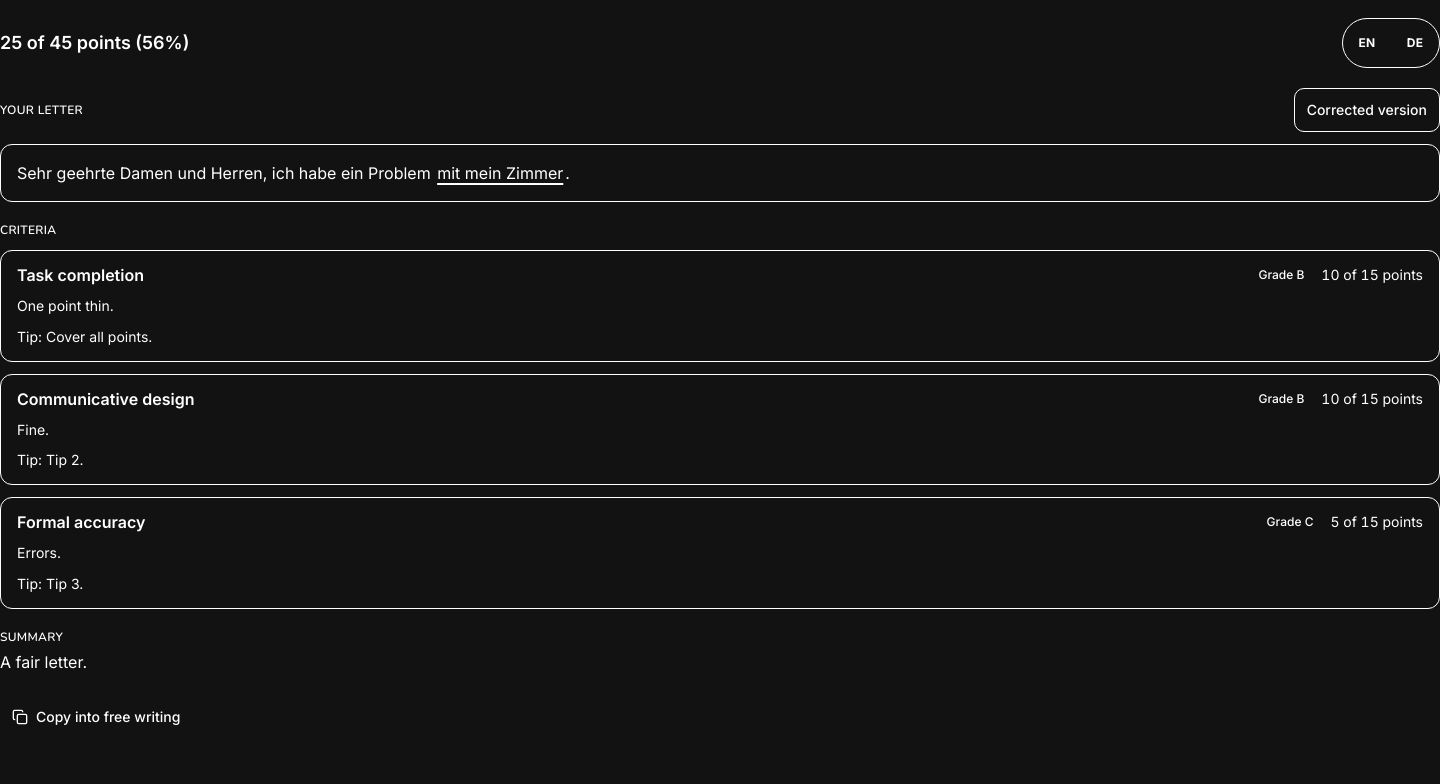
TeilReview for a letter › shows the error and stays when free writing cannot be opened
Click the button "Copy into free writing": x=96, y=716 x1=0 y1=694 x2=192 y2=738
(page scrolled)
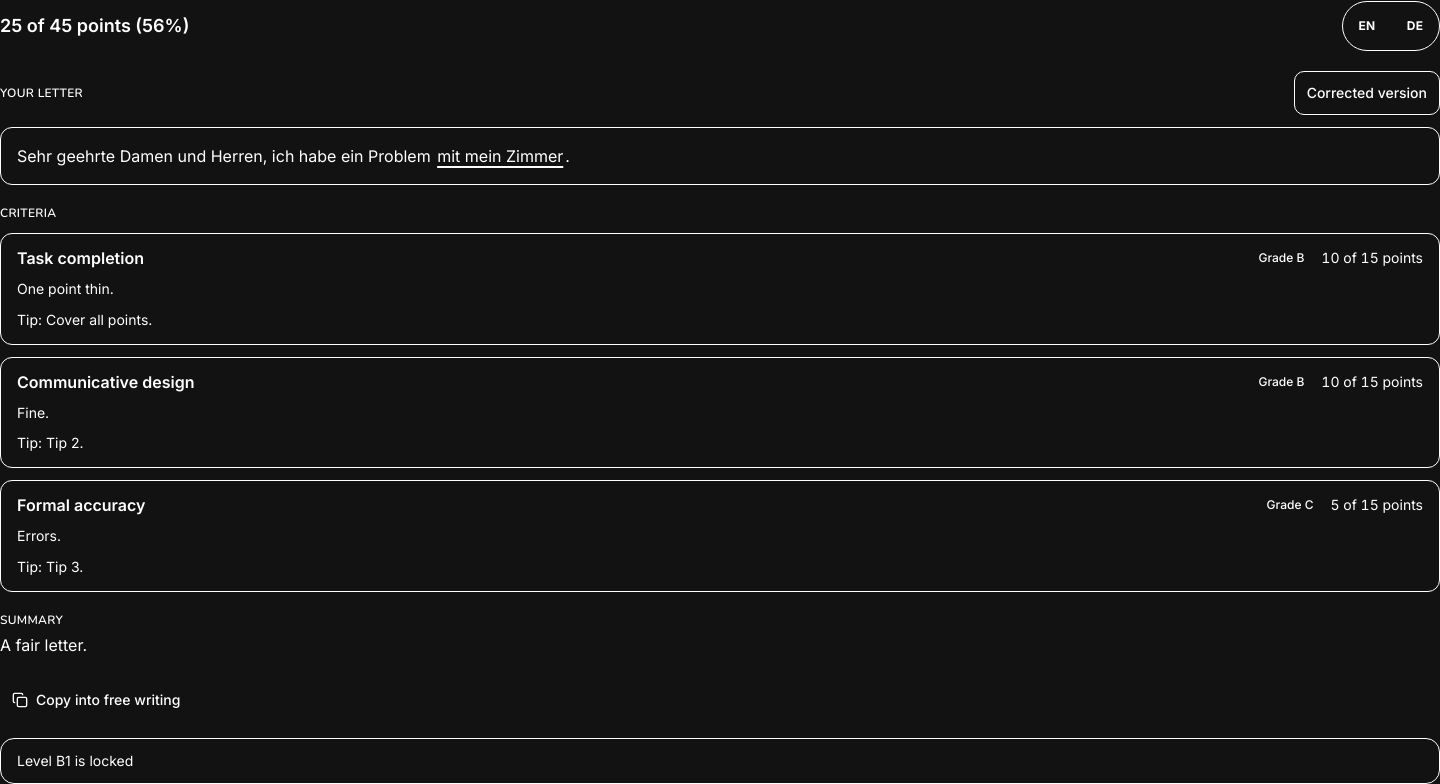
Result: the message "Level B1 is locked" is shown at x1=0 y1=738 x2=1439 y2=783
